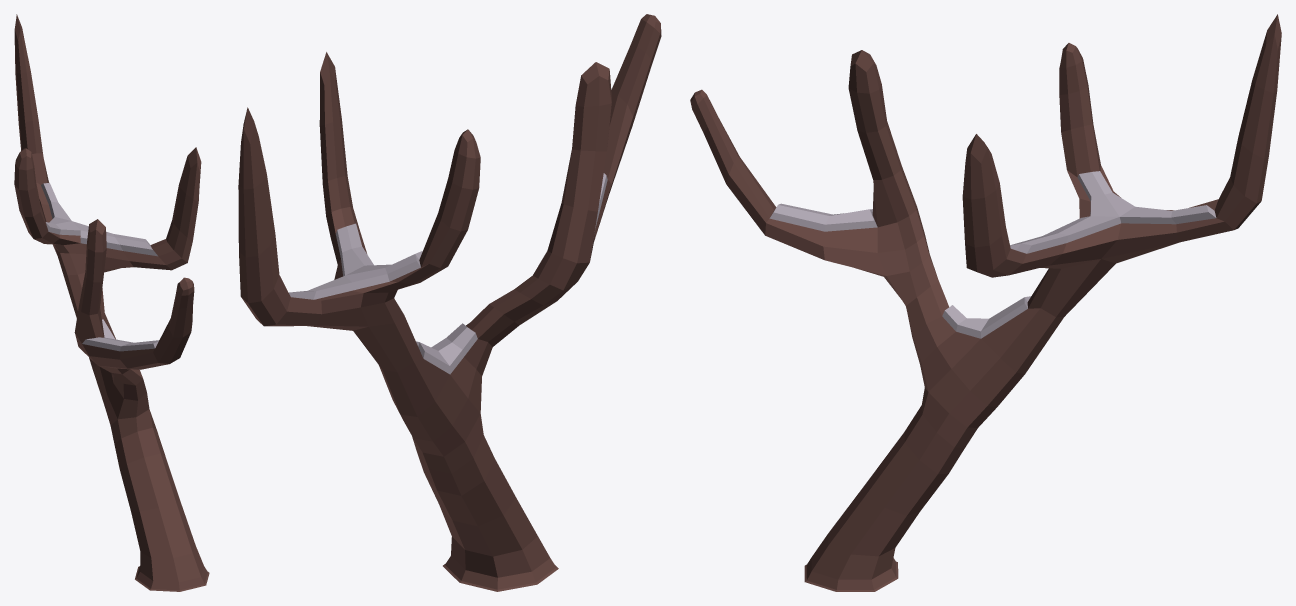
Rendered from Willow_Dead_Snow_4.gltf.
3 views of the same model, side by side, from view 1: azimuth 30°, elevation 25°; view 2: azimuth 150°, elevation 25°; view 3: azimuth 270°, elevation 25° (orthographic). The views are drawn at different scales.
Parts seen in each view (by area): view 1: Willow_Dead_Snow_4; view 2: Willow_Dead_Snow_4; view 3: Willow_Dead_Snow_4.
Boxes of the visible parts, left/top/right/bottom form: Willow_Dead_Snow_4: left=14, top=14, right=209, bottom=591; Willow_Dead_Snow_4: left=238, top=14, right=661, bottom=591; Willow_Dead_Snow_4: left=690, top=14, right=1281, bottom=591.
Bounding box in the file's own units: 1.01 × 2.72 × 2.59.
